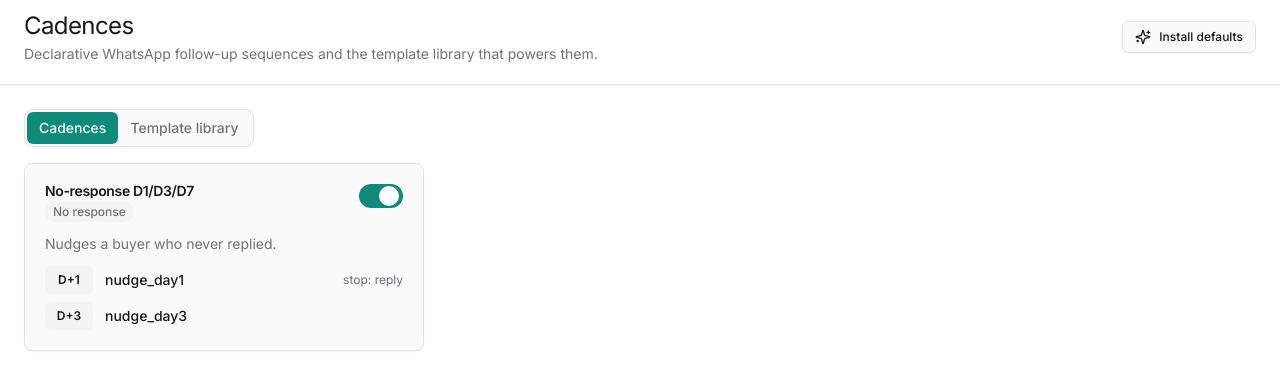
Test: the template library › invites the defaults when the library is bare
Step 1. Click the button "Template library" → [184, 128], box 118,112 -> 250,144
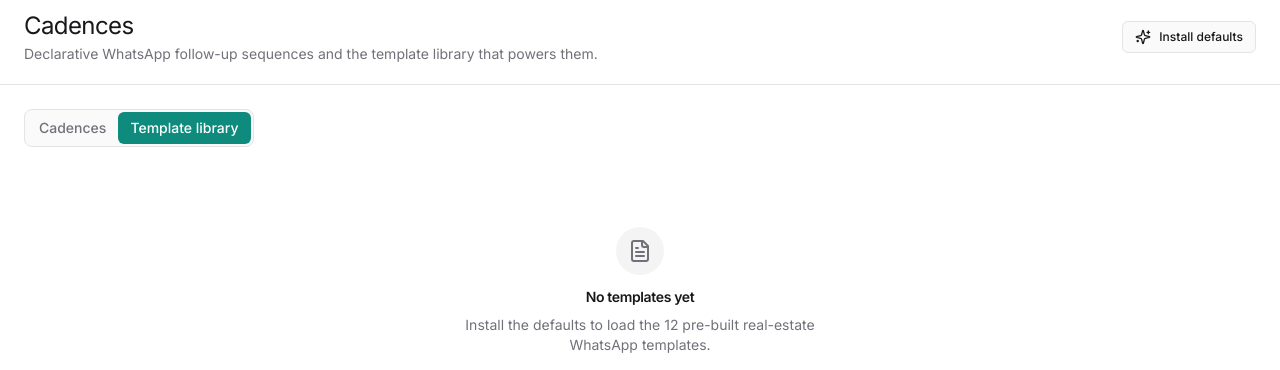
Check: the heading "No templates yet" is shown, box 586,287 -> 694,307
